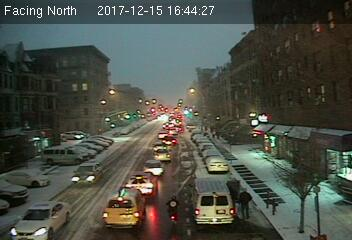bicycle: (166, 194, 178, 228)
car: (7, 200, 72, 240), (105, 189, 147, 229), (125, 171, 159, 195), (71, 162, 103, 184), (205, 156, 229, 173), (143, 159, 165, 175), (153, 147, 173, 162), (162, 135, 177, 146)
truck: (189, 178, 235, 226)
